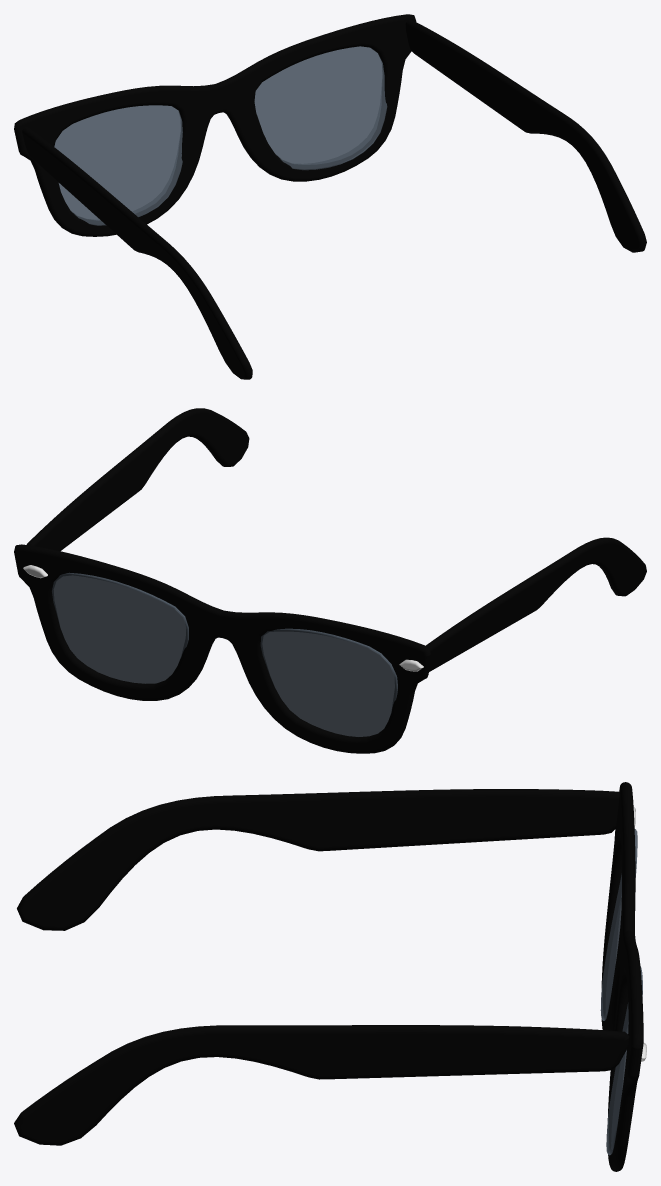
Rendered from black_sun4_round_oval.fbx.
3 renders of one model, top to bottom at view 1: azimuth 30°, elevation 25°; view 2: azimuth 150°, elevation 25°; view 3: azimuth 270°, elevation 25°, orthographic. The views are drawn at different scales.
Parts seen in each view (by area): view 1: Obj_Avatar_Shape; view 2: Obj_Avatar_Shape; view 3: Obj_Avatar_Shape.
Boxes of the visible parts, left/top/right/bottom form: Obj_Avatar_Shape: left=14, top=14, right=646, bottom=379; Obj_Avatar_Shape: left=14, top=408, right=646, bottom=753; Obj_Avatar_Shape: left=14, top=782, right=646, bottom=1171.
Bounding box in the file's own units: 14.67 × 4.98 × 14.39.
